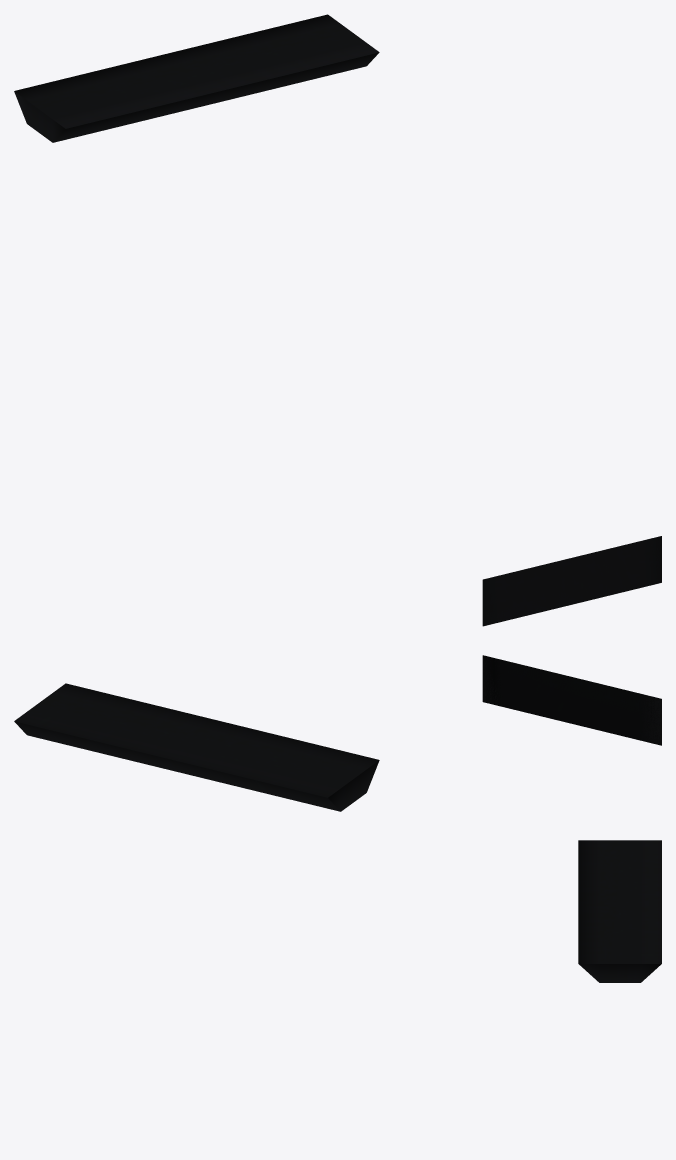
3 renders of one model, top to bottom at view 1: azimuth 30°, elevation 25°; view 2: azimuth 150°, elevation 25°; view 3: azimuth 270°, elevation 25°, orthographic. The views are drawn at different scales.
Bounding box in the file's own units: 1.12 × 0.88 × 2.48.
Materials: 1 (1 with a texture image).
